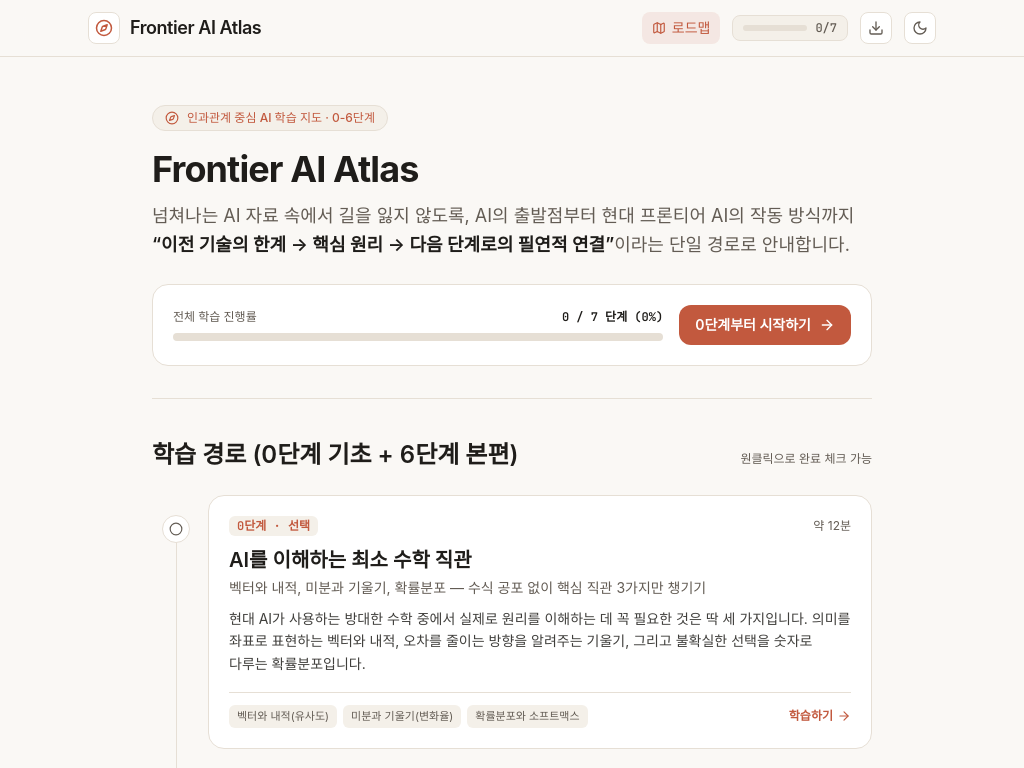
Test: Frontier AI Atlas App › toggles dark mode class on documentElement
What coordinates should you click on to do the following:
click the button named "다크 모드로 전환"
I would click on:
 (920, 28)
Its box is left=904, top=12, right=936, bottom=44.
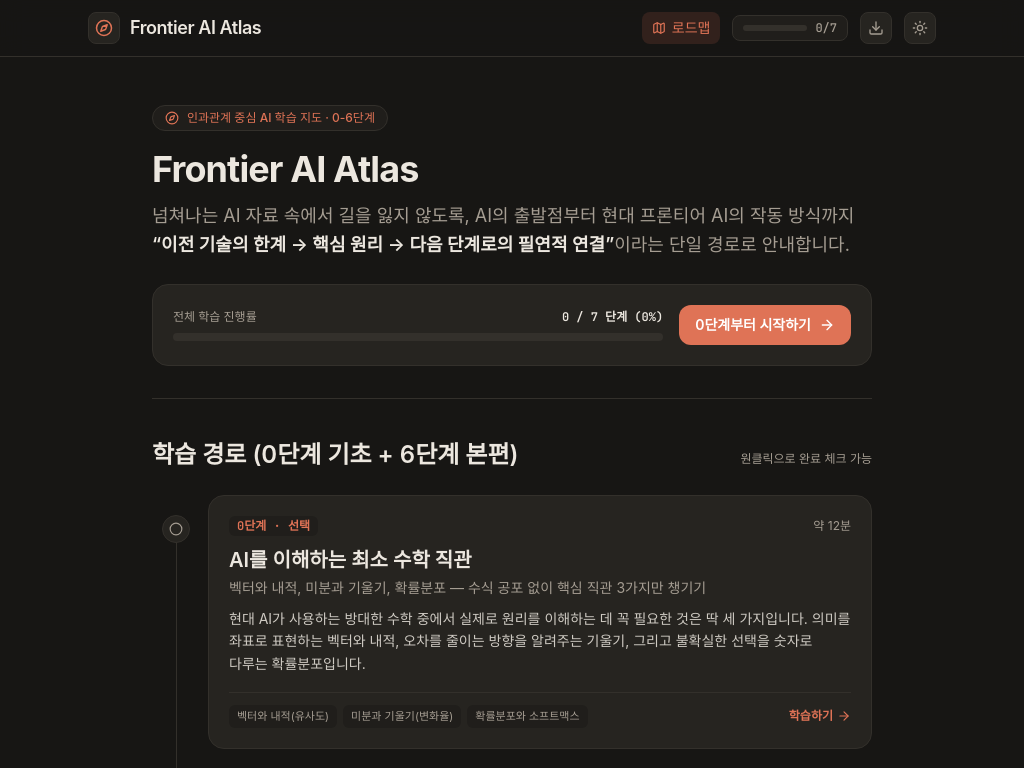
Now the button named "라이트 모드로 전환" is shown, box left=904, top=12, right=936, bottom=44
